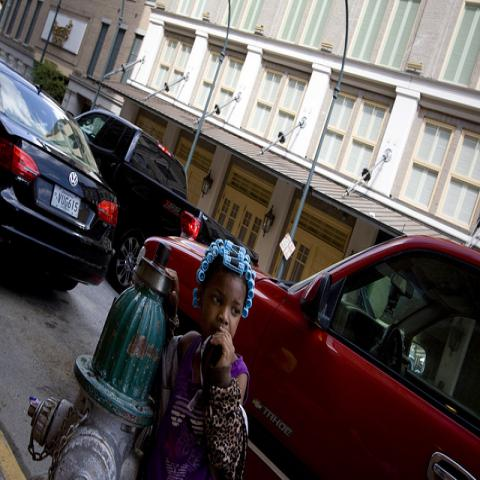car: (137, 234, 480, 479), (0, 58, 115, 293)
truck: (73, 108, 261, 289)
